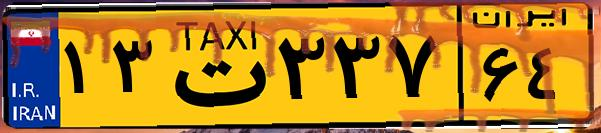1: (57, 26, 110, 100)
3: (270, 28, 330, 110), (330, 28, 385, 110), (110, 28, 158, 98)
4: (525, 38, 570, 115)
6: (475, 38, 525, 113)
7: (385, 28, 445, 110)
ت: (158, 12, 270, 120)
